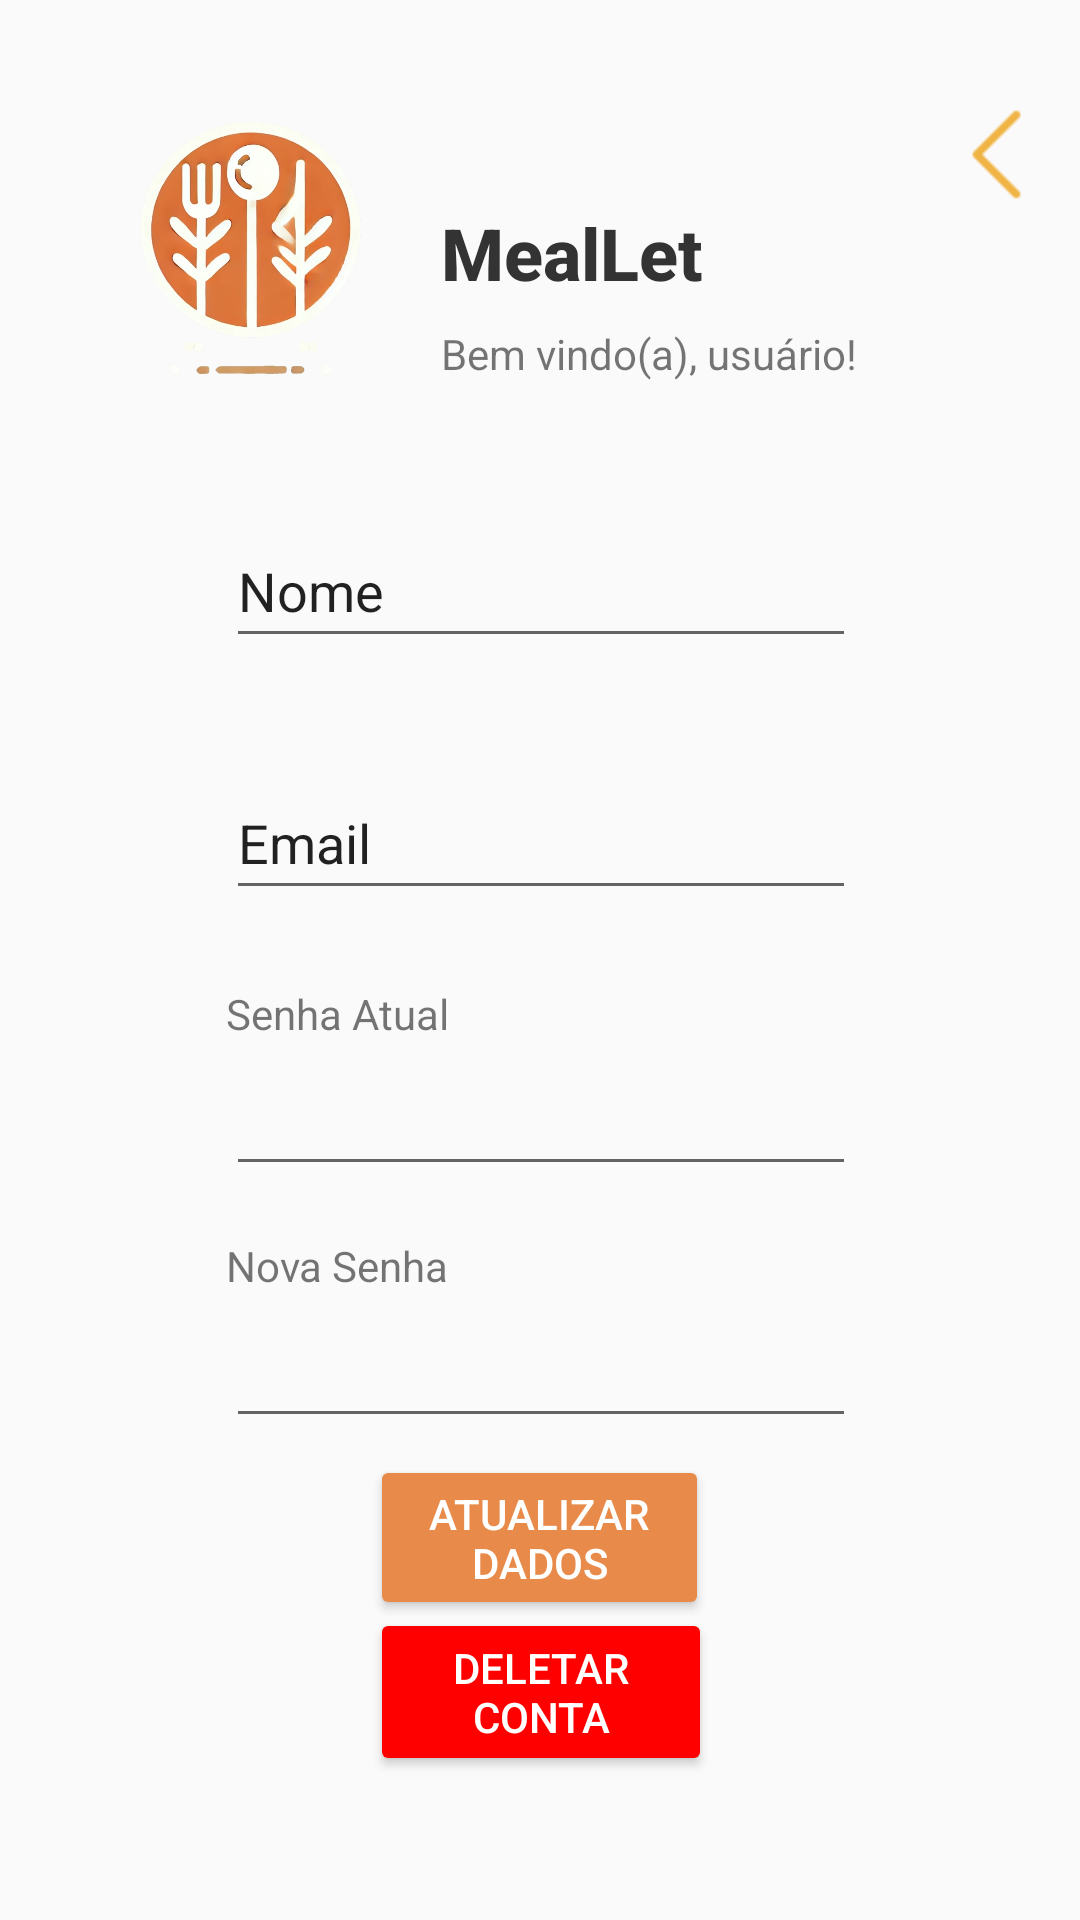

Where to tap for icons on this 1080 x 1920 app screen, as [x,y]:
volta: [996,154]
